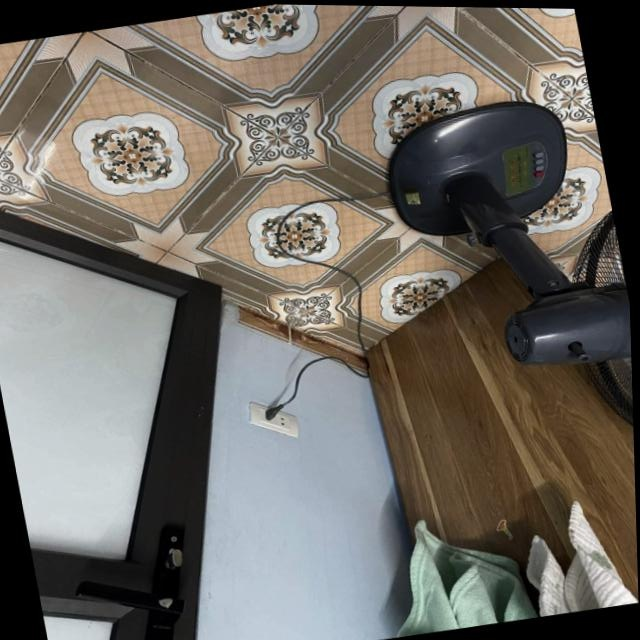outlet: (244, 395, 301, 445)
